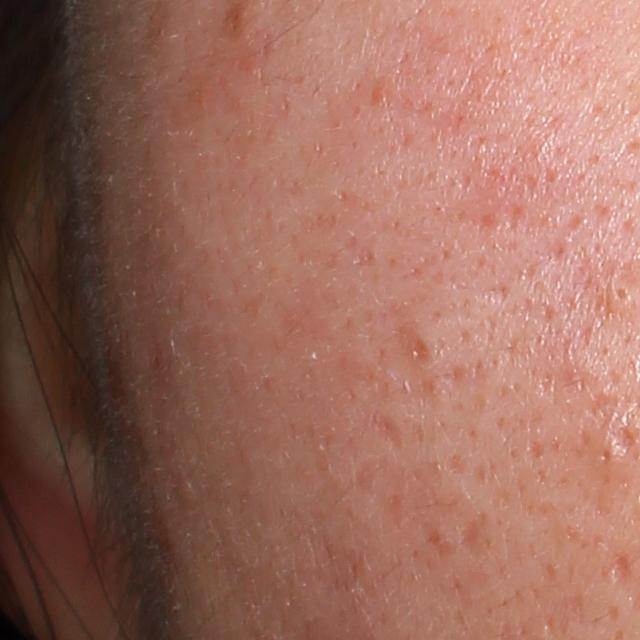atrophic_scar: (369, 412, 404, 451), (407, 329, 435, 368), (460, 517, 485, 554), (613, 423, 637, 455)
